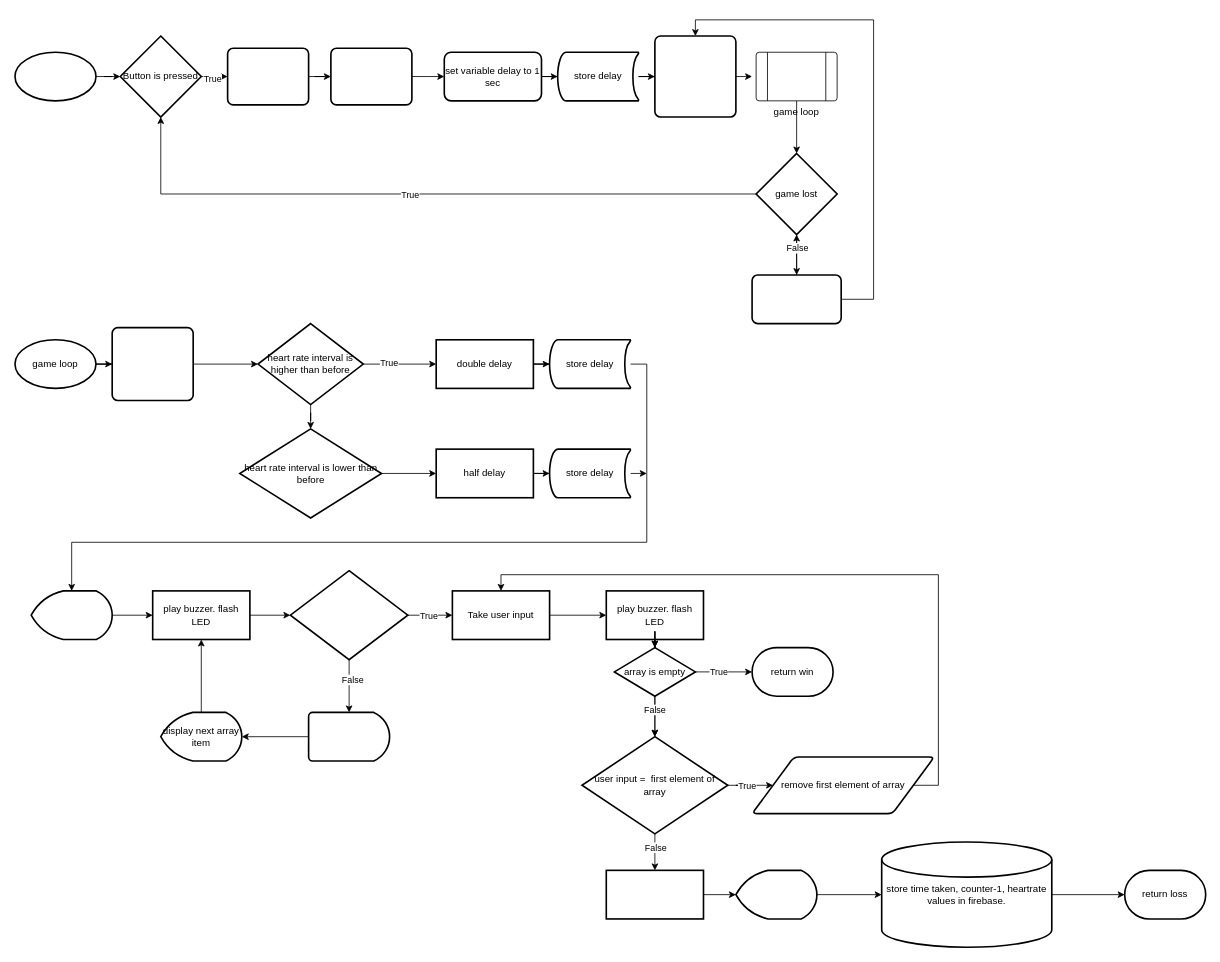
Some shapes in this 1220 by 962 pixel diagram are drawn without their labels. Each missing label, with the centre of its shape:
add 1 to counter: the point at 796,299
all array elements have been shown: the point at 348,614
check heart rate interval: the point at 695,76
create counter variable = 1: the point at 371,76
create sequence array from counter amount of symbols: the point at 152,363
create symbol array = up, down, left and right: the point at 267,76
delay given by variable: the point at 348,736
display correct input: the point at 776,894
display first item in the array: the point at 71,615
play buzzer: the point at 654,894
Start: the point at 55,76
